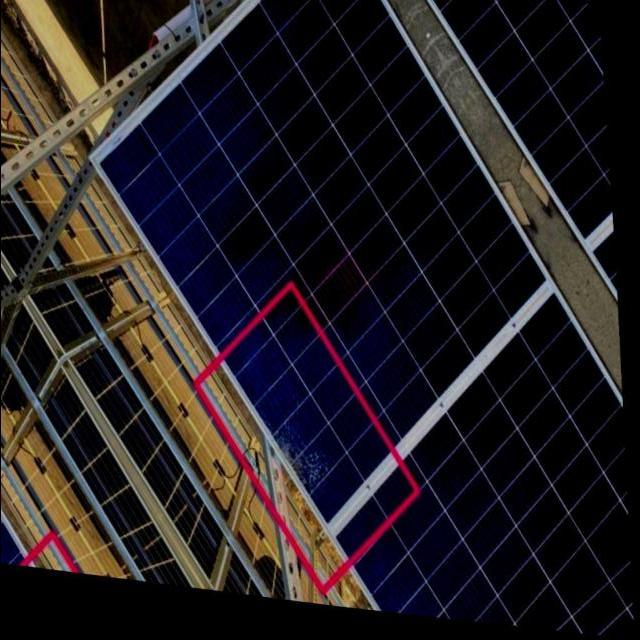cracked: (262, 406, 342, 504)
